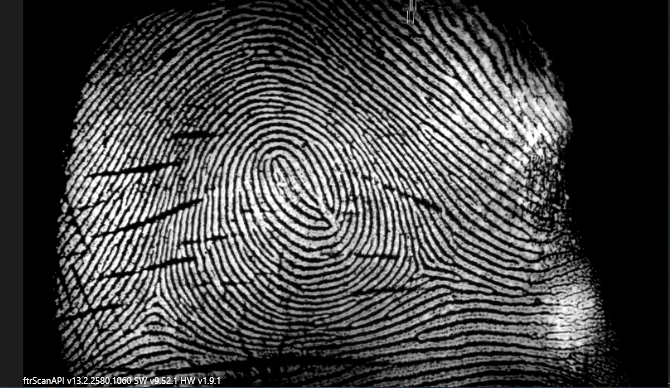deltas: (387, 230, 452, 297), (124, 264, 193, 327)
nucleo: (259, 139, 326, 226)
